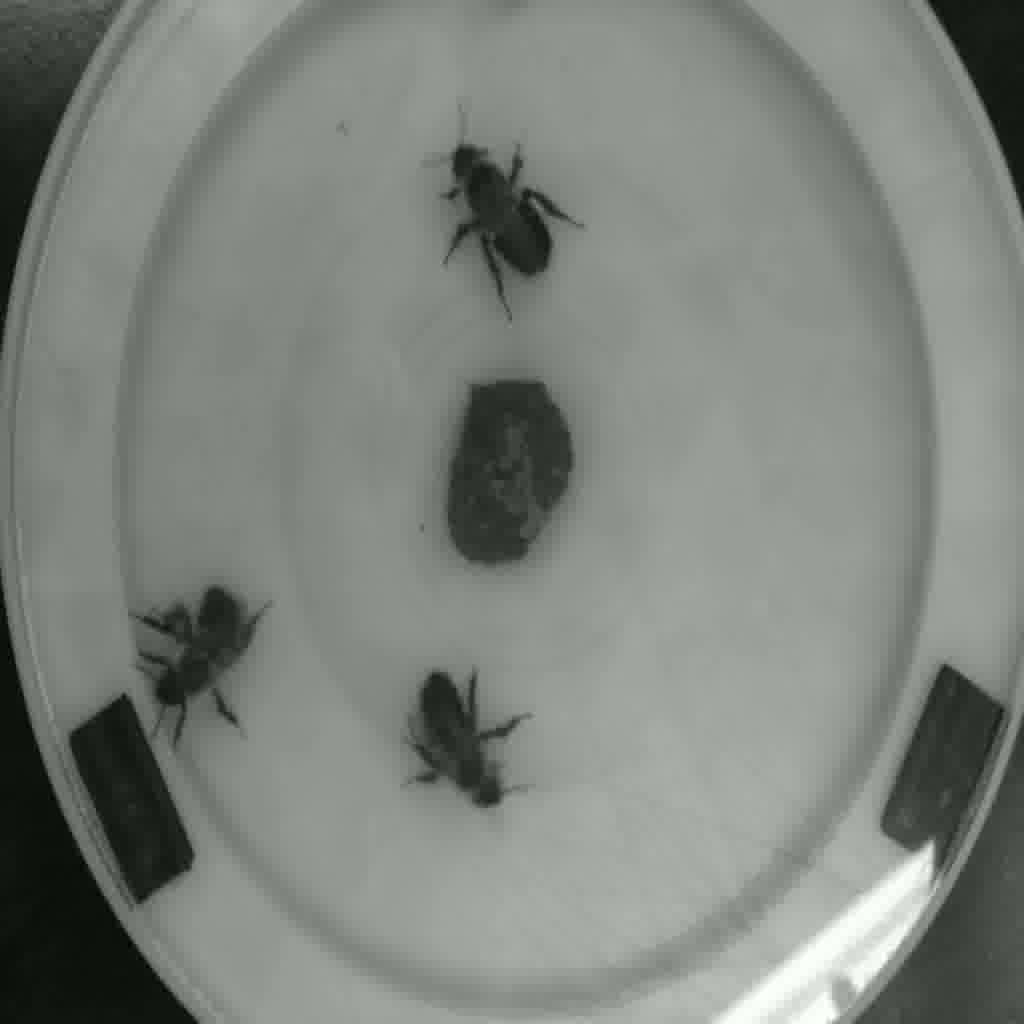bee: (428, 120, 570, 305), (397, 671, 539, 828), (126, 574, 273, 723)
